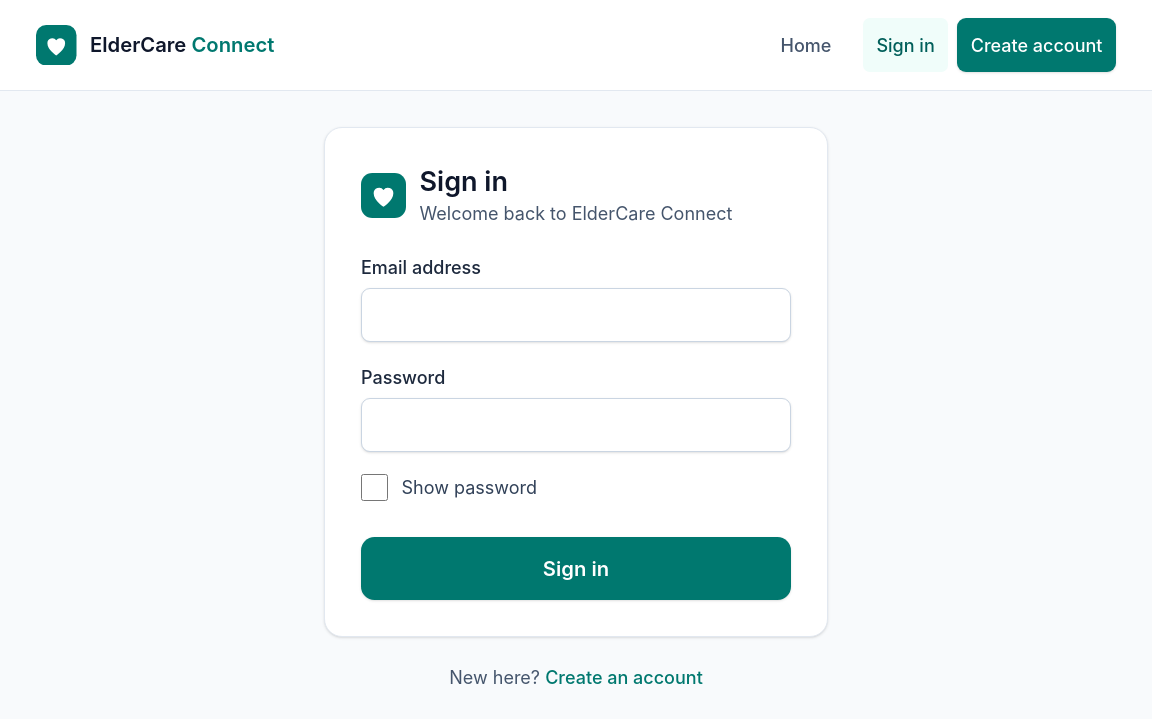
it: login › signs in, shows user info and role, and stores the token
Step 1. Type "  Jane@Example.com " into the field labelled "Email address" → (576, 315), box top-left (361, 288), bottom-right (791, 342)
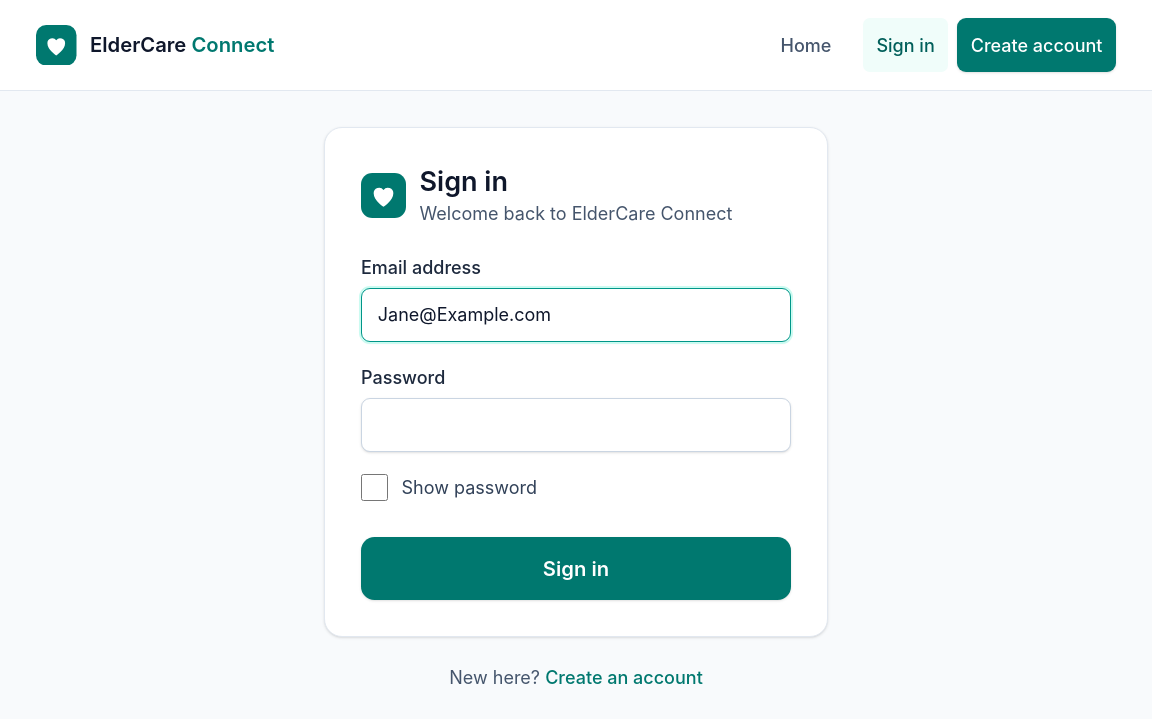
Step 2. Type "SafePassword123" into the password field labelled "Password" → (576, 425), box top-left (361, 398), bottom-right (791, 452)
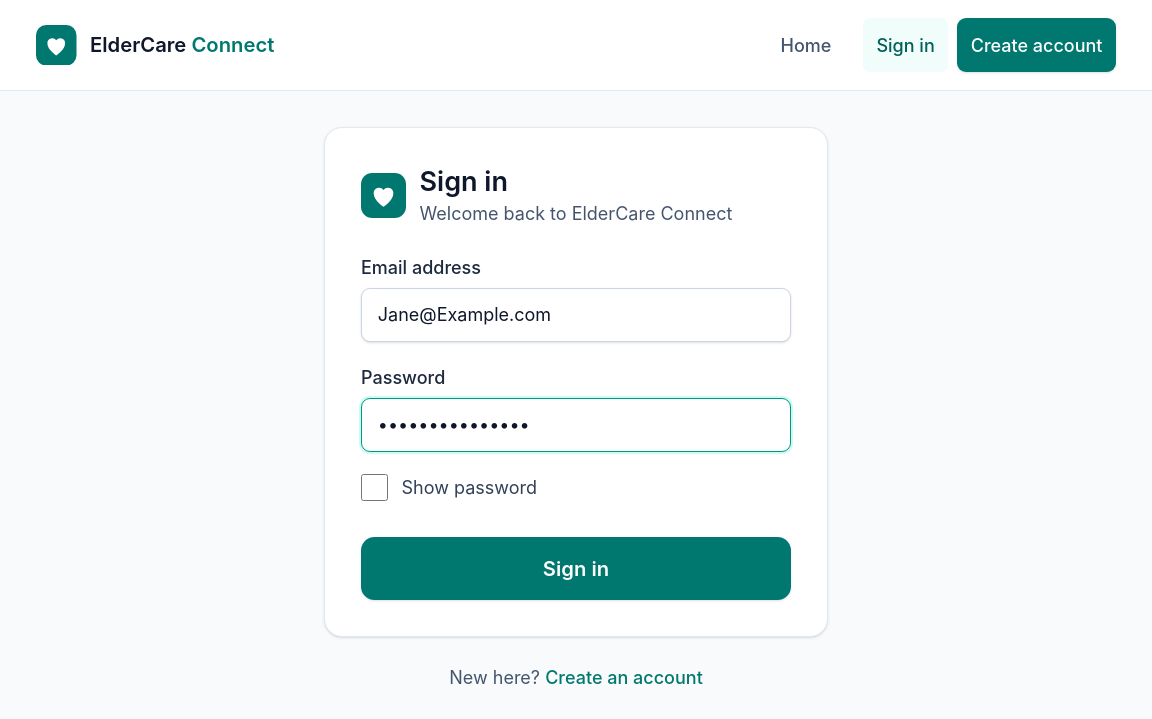
Step 3. Click the button "Sign in" → (576, 569), box top-left (361, 538), bottom-right (791, 600)
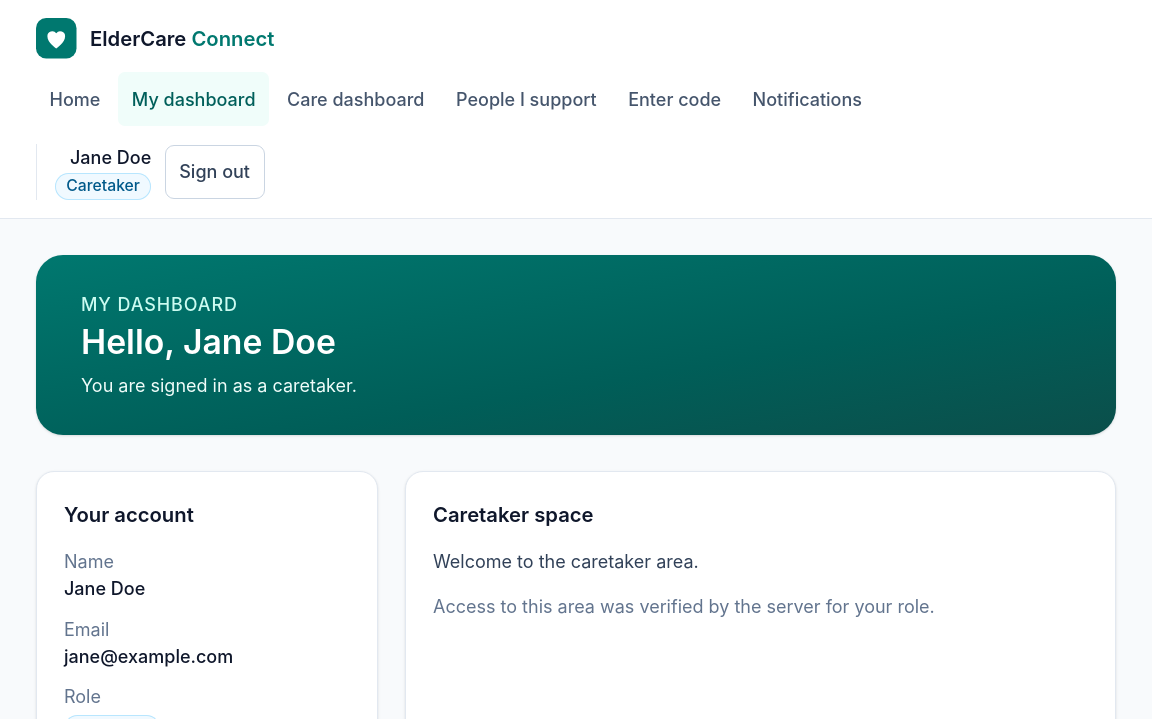
Result: the heading "Hello, Jane Doe" is shown at top-left (81, 321), bottom-right (336, 362)
Result: the text "Caretaker" below "Home" is shown at top-left (66, 176), bottom-right (140, 195)
Result: the text "Welcome to the caretaker area." is shown at top-left (433, 551), bottom-right (699, 572)
